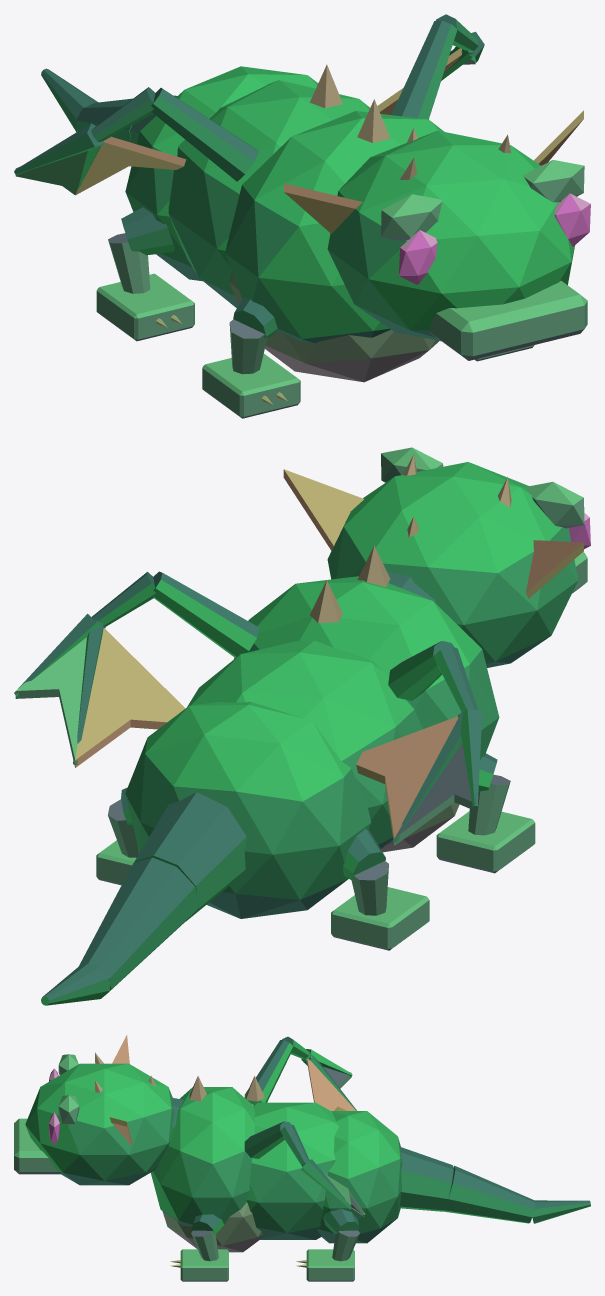
File: creature_dragon_whelp_rest_v01.glb
3 views of the same model, one above another, from view 1: azimuth 30°, elevation 25°; view 2: azimuth 150°, elevation 25°; view 3: azimuth 270°, elevation 25° (orthographic). The views are drawn at different scales.
Parts seen in each view (by area): view 1: GEO_creature_dragon_whelp_rest_v01; view 2: GEO_creature_dragon_whelp_rest_v01; view 3: GEO_creature_dragon_whelp_rest_v01.
Part boxes in pixels (box(x1,y1,x2,y2)): GEO_creature_dragon_whelp_rest_v01: box(14, 14, 590, 418); GEO_creature_dragon_whelp_rest_v01: box(14, 447, 590, 1005); GEO_creature_dragon_whelp_rest_v01: box(14, 1035, 590, 1281).
Bounding box in the file's own units: 1.98 × 1.24 × 3.57.
